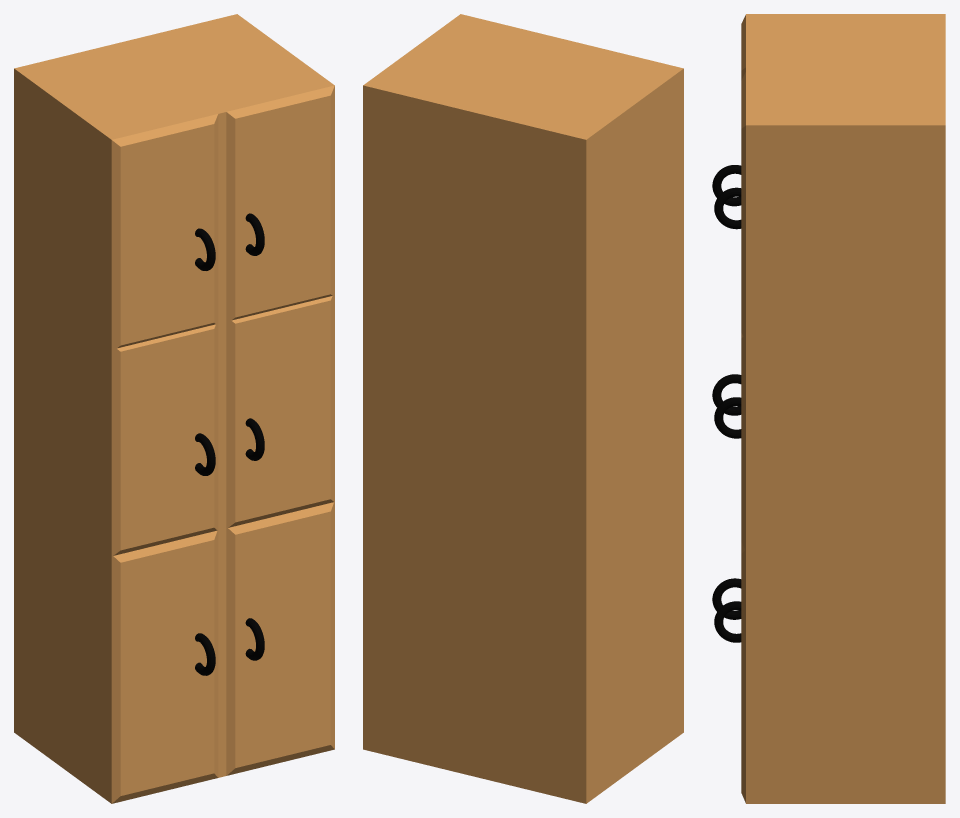
The model's file is LongCupboardV.fbx.
3 views of the same model, side by side, from view 1: azimuth 30°, elevation 25°; view 2: azimuth 150°, elevation 25°; view 3: azimuth 270°, elevation 25° (orthographic). The views are drawn at different scales.
Visible parts, largest first — view 1: Normal Up Cupboard.004, Normal Up Cupboard.006, Normal Up Cupboard.005; view 2: Normal Up Cupboard.004, Normal Up Cupboard.006, Normal Up Cupboard.005; view 3: Normal Up Cupboard.004, Normal Up Cupboard.006, Normal Up Cupboard.005, Torus.017, Torus.015, Torus.013, Torus.014, Torus.016, Torus.012.
Part boxes in pixels (box(x1,y1,x2,y2)): Normal Up Cupboard.004: box(14, 14, 334, 351); Normal Up Cupboard.006: box(14, 486, 334, 803); Normal Up Cupboard.005: box(14, 281, 334, 556); Normal Up Cupboard.004: box(363, 14, 683, 351); Normal Up Cupboard.006: box(363, 483, 683, 803); Normal Up Cupboard.005: box(363, 281, 683, 556); Normal Up Cupboard.004: box(741, 14, 945, 342); Normal Up Cupboard.006: box(741, 542, 945, 803); Normal Up Cupboard.005: box(741, 333, 945, 551); Torus.017: box(714, 601, 741, 642); Torus.015: box(714, 397, 741, 438); Torus.013: box(714, 187, 741, 229); Torus.014: box(712, 374, 741, 415); Torus.016: box(712, 578, 741, 619); Torus.012: box(712, 165, 741, 206).
Bounding box in the file's own units: 151 × 134 × 431.
